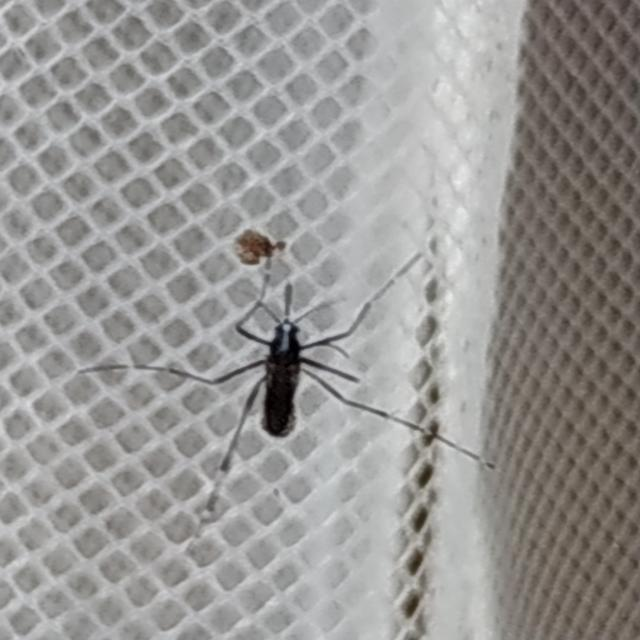albopictus: (84, 249, 519, 516)
